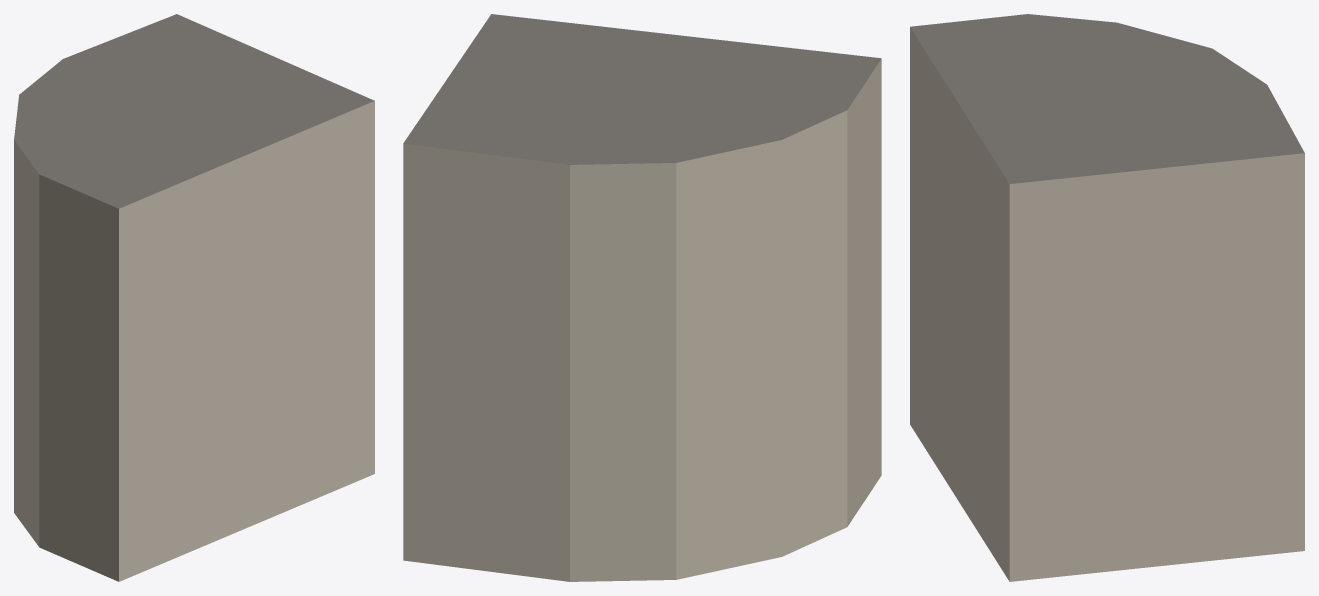
The picture shows the model from 3 angles, left to right: view 1: azimuth 30°, elevation 25°; view 2: azimuth 150°, elevation 25°; view 3: azimuth 270°, elevation 25°; orthographic projection. The views are drawn at different scales.
Parts seen in each view (by area): view 1: HP-w1197685190; view 2: HP-w1197685190; view 3: HP-w1197685190.
Part boxes in pixels (x1=…): HP-w1197685190: x1=14, y1=14, x2=374, y2=581; HP-w1197685190: x1=403, y1=14, x2=881, y2=581; HP-w1197685190: x1=910, y1=14, x2=1304, y2=581.
Size of the model in its own units: 13.76 by 15 by 13.49.
